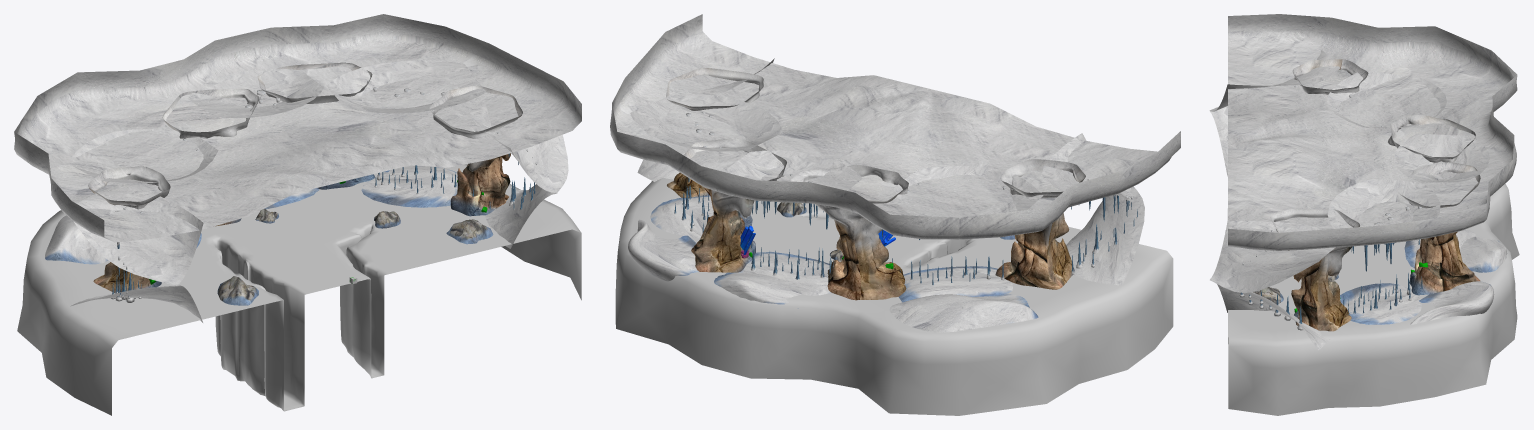
The model's file is AlphaCave.FBX.
The picture shows the model from 3 angles, left to right: view 1: azimuth 30°, elevation 25°; view 2: azimuth 150°, elevation 25°; view 3: azimuth 270°, elevation 25°; orthographic projection. The views are drawn at different scales.
Visible parts, largest first — view 1: Base_Layer_Origin, Ground_Layer_Origin; view 2: Base_Layer_Origin, Ground_Layer_Origin, Crystal_Layer_Origin; view 3: Base_Layer_Origin, Ground_Layer_Origin.
Boxes of the visible parts, box(x1,y1,x2,y2) form: Base_Layer_Origin: box(14, 14, 581, 322); Ground_Layer_Origin: box(17, 164, 581, 415); Base_Layer_Origin: box(610, 14, 1180, 332); Ground_Layer_Origin: box(615, 177, 1173, 415); Crystal_Layer_Origin: box(740, 225, 895, 269); Base_Layer_Origin: box(1209, 14, 1517, 350); Ground_Layer_Origin: box(1227, 183, 1519, 415).
Bounding box in the file's own units: 211786 × 95494 × 125251.
